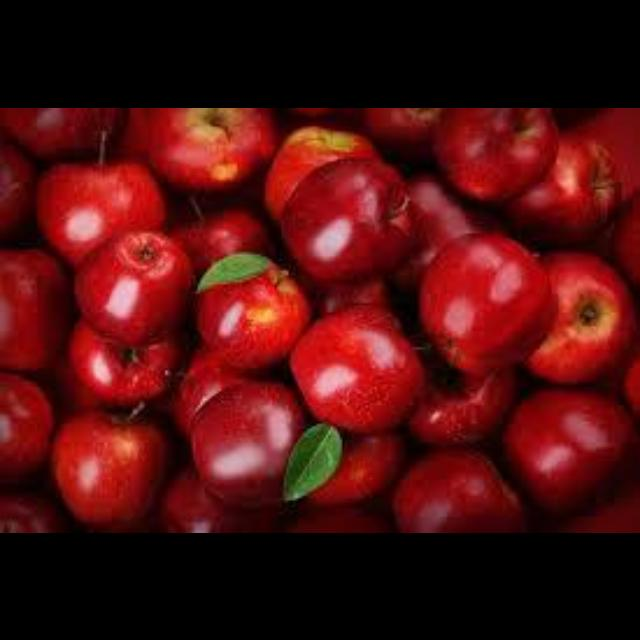apple: (421, 233, 554, 372), (279, 156, 414, 282), (289, 305, 424, 430), (503, 389, 631, 512), (526, 251, 633, 382), (191, 382, 303, 505), (74, 230, 193, 344), (51, 410, 170, 524), (35, 161, 163, 265), (503, 135, 619, 244), (195, 263, 310, 368), (433, 107, 556, 200), (396, 172, 496, 284), (144, 107, 275, 188), (393, 449, 521, 531), (265, 126, 377, 219), (70, 319, 184, 405), (410, 356, 514, 444), (0, 247, 72, 368), (170, 200, 275, 275), (161, 465, 270, 531), (307, 433, 403, 503), (172, 349, 247, 433), (0, 107, 119, 156), (0, 372, 51, 482), (363, 107, 440, 158), (0, 135, 35, 240), (314, 279, 389, 312), (286, 507, 389, 531), (0, 493, 63, 531), (116, 107, 151, 161)
